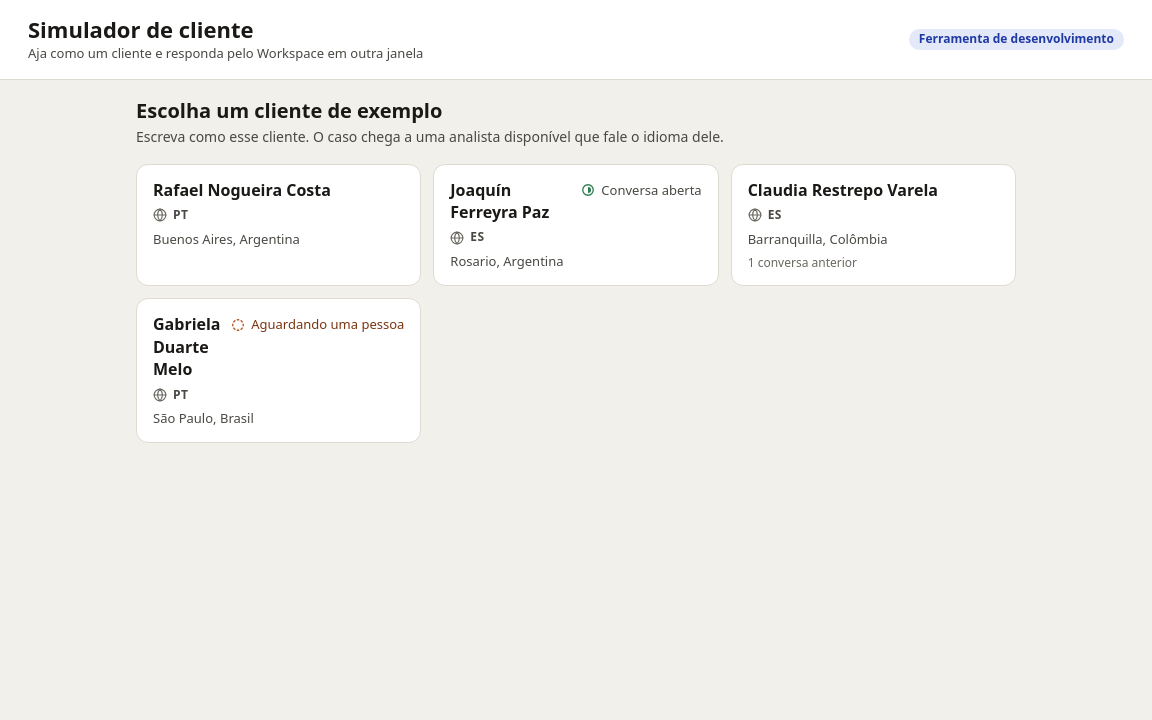
/customer in Portuguese (slice 23) › shows the picker chrome in the UI language and explains a failed sign-in
Expected: the heading "Simulador de cliente" is shown, 28,14 -> 254,44
Expected: the text "Ferramenta de desenvolvimento" is shown, 909,29 -> 1124,50
Click the button "Claudia Restrepo Varela" at (873, 225), box 731,164 -> 1016,286
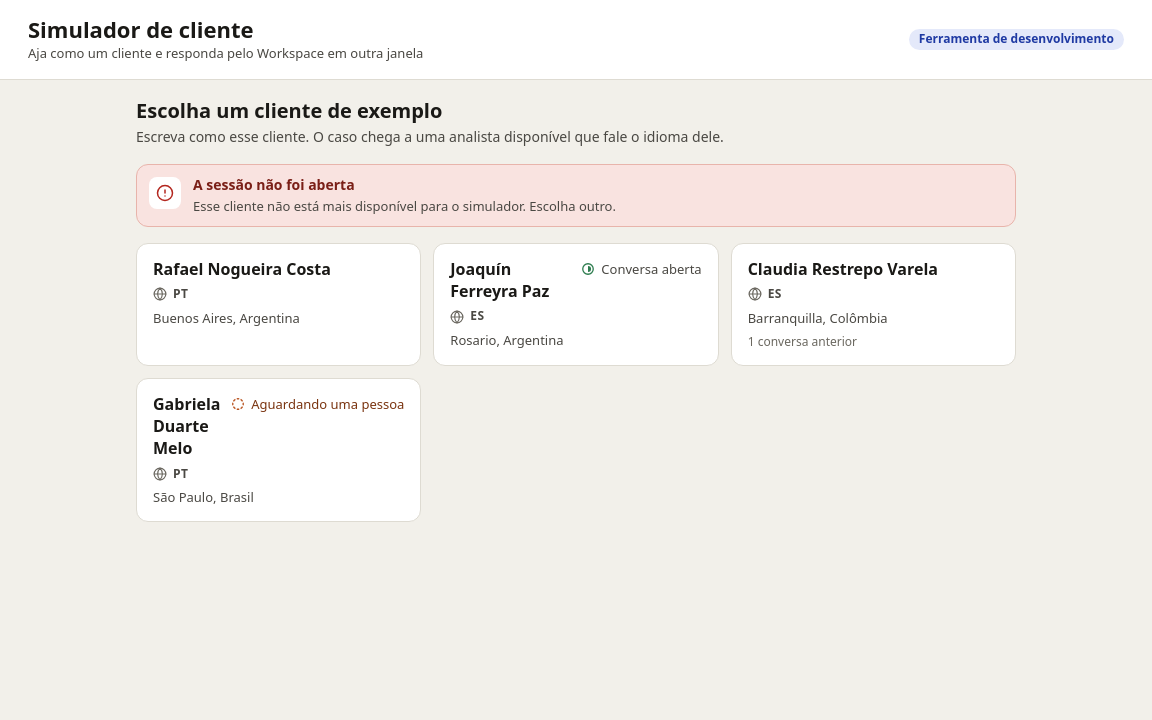
Result: the text "A sessão não foi aberta" is shown at 193,174 -> 355,194
Result: the text "Esse cliente não está mais disponível para o simulador. Escolha outro." is shown at 193,197 -> 616,215
